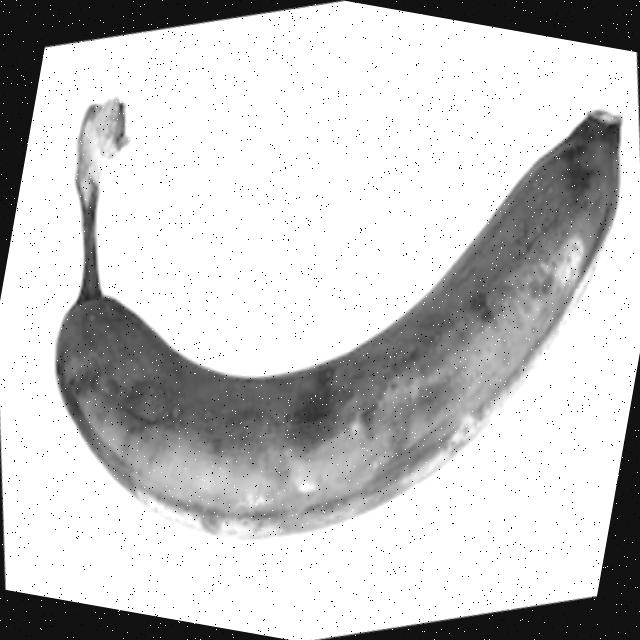Rotten: (10, 14, 636, 594)
